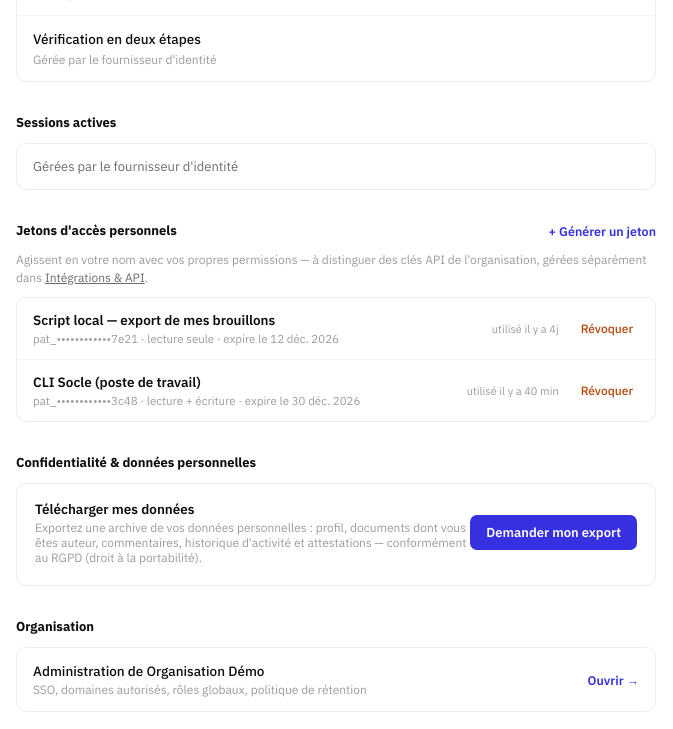
AccountPage › jetons d’accès personnels › Révoquer : confirmation dans la page (pas de window.confirm), puis DELETE
The image size is (673, 729).
(page scrolled)
Click the button "Révoquer" next to "utilisé il y a 40 min".
click(607, 390)  # box left=575, top=382, right=639, bottom=399
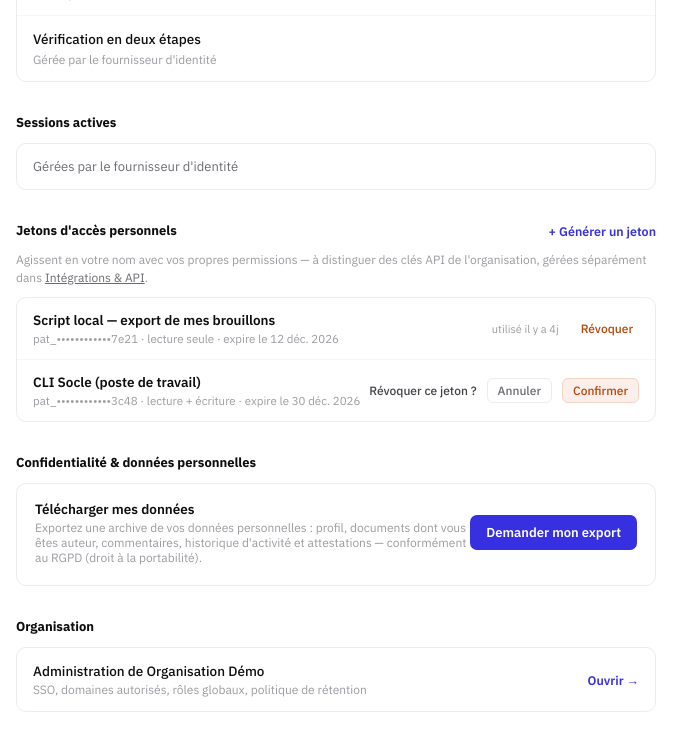
Expected: the text "Révoquer ce jeton ?" is shown, left=369, top=383, right=477, bottom=398
Click the button "Annuler".
click(519, 390)  # box left=486, top=378, right=552, bottom=403
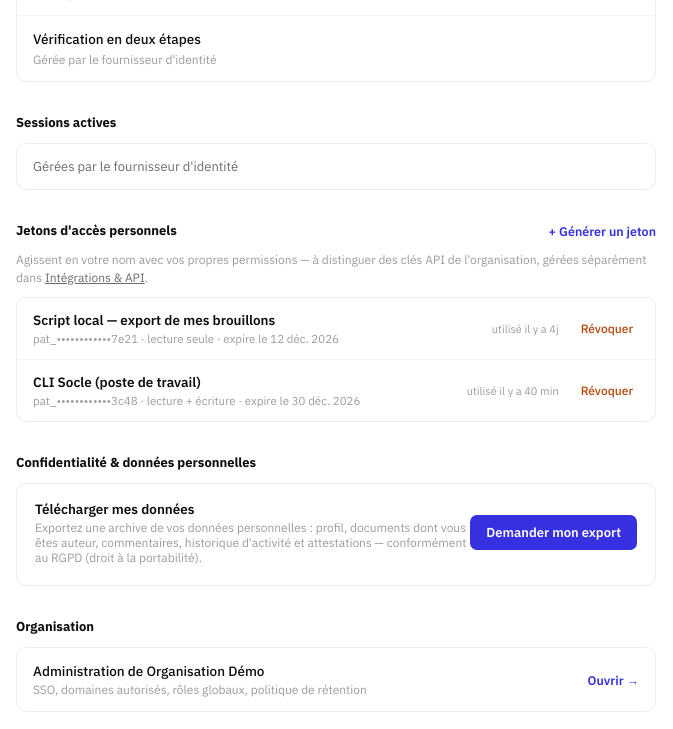
Expected: the text "Révoquer ce jeton ?" is gone
Click the button "Révoquer" next to "utilisé il y a 40 min".
click(607, 390)  # box left=575, top=382, right=639, bottom=399
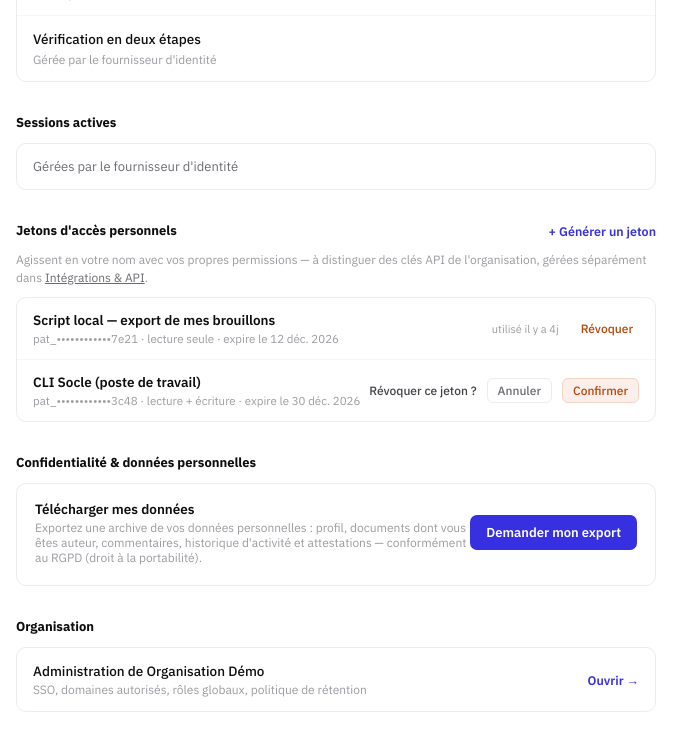
Click the button "Confirmer".
click(600, 390)  # box left=562, top=378, right=639, bottom=403
(page scrolled)
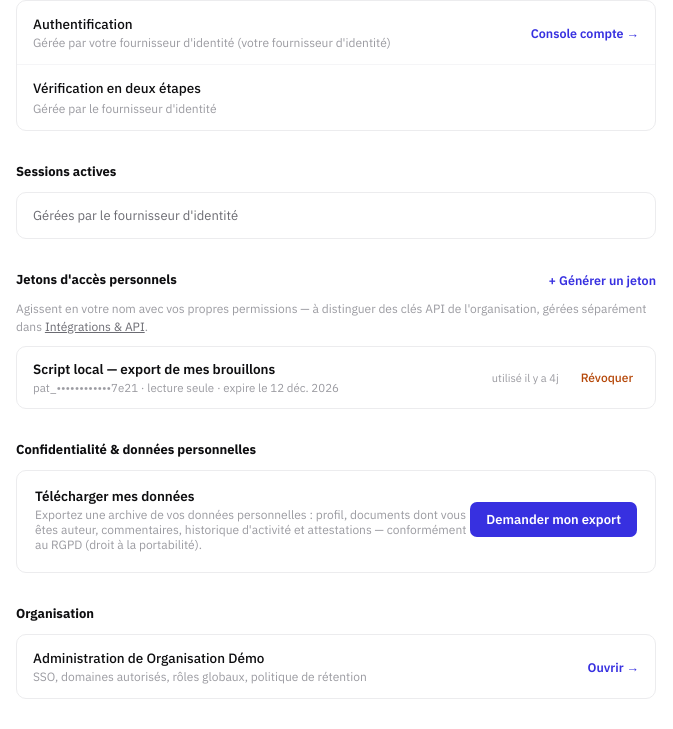
Expected: the number of elements with test id "pat-row" is 1, left=33, top=360, right=639, bottom=395
